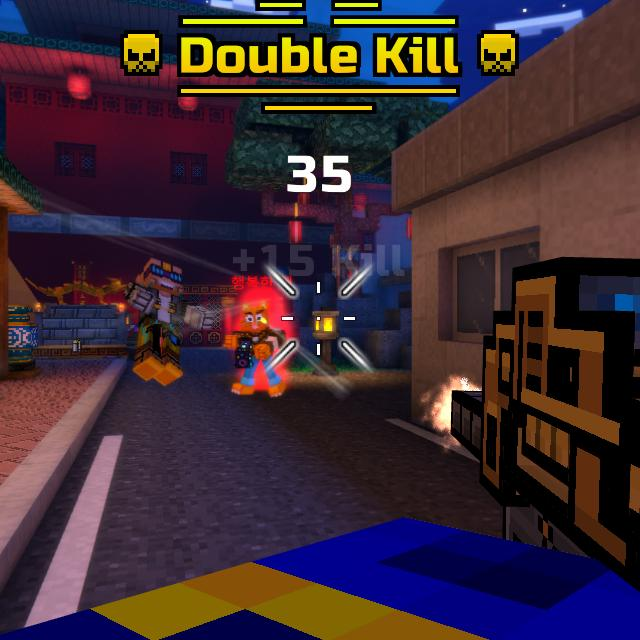Enemy: (225, 307, 287, 397)
